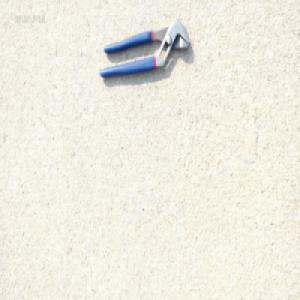Pliers: (98, 19, 190, 79)
